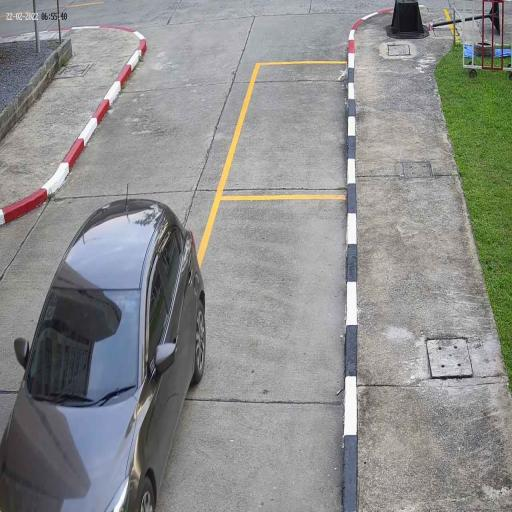car: (0, 197, 207, 512)
